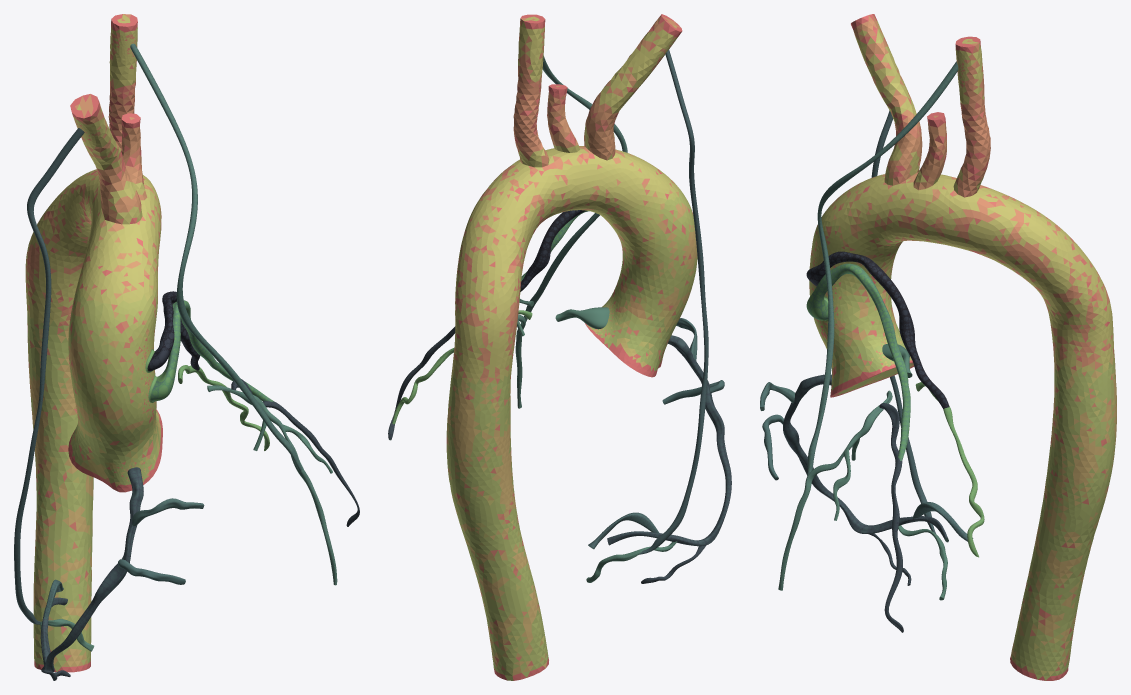
3 renders of one model, left to right at view 1: azimuth 30°, elevation 25°; view 2: azimuth 150°, elevation 25°; view 3: azimuth 270°, elevation 25°, orthographic. The views are drawn at different scales.
Parts seen in each view (by area): view 1: imagetostl_mesh0; view 2: imagetostl_mesh0; view 3: imagetostl_mesh0.
Part boxes in pixels (box(x1,y1,x2,y2)): imagetostl_mesh0: box(14, 14, 359, 680); imagetostl_mesh0: box(388, 14, 731, 680); imagetostl_mesh0: box(760, 14, 1116, 680).
Bounding box in the file's own units: 2106 × 3994 × 2013.
